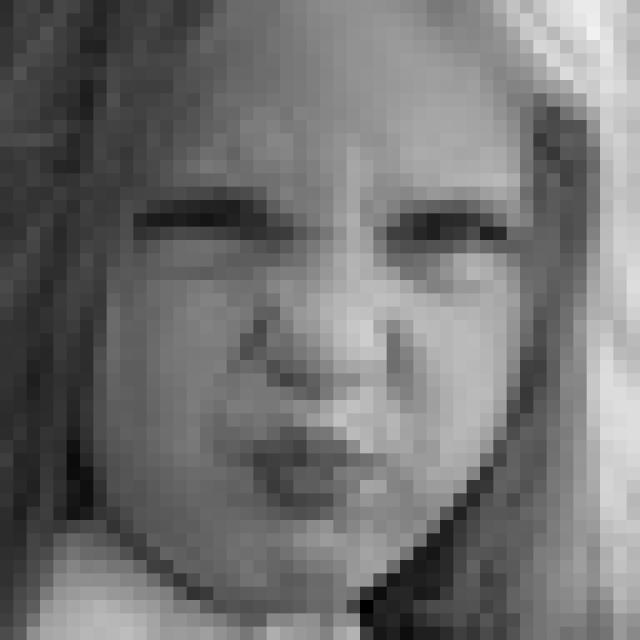disgust: (129, 183, 521, 542)
